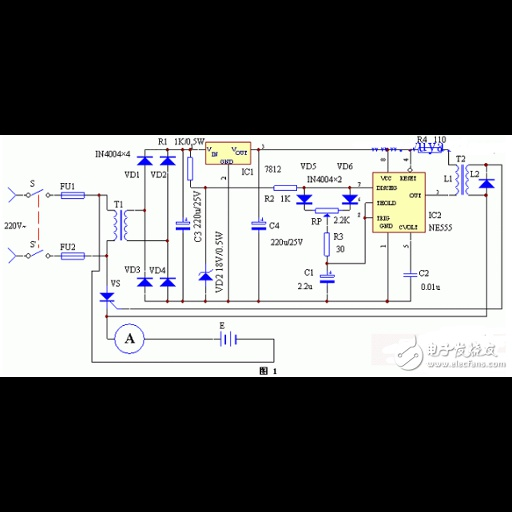battery: (216, 330, 242, 349)
capacitor: (401, 270, 419, 280)
firstdiode: (341, 193, 359, 208), (295, 193, 314, 207), (135, 154, 155, 167), (158, 276, 178, 289), (478, 178, 497, 191), (136, 276, 154, 289), (159, 155, 178, 167)
firstresistance: (270, 183, 299, 193), (322, 230, 332, 259), (186, 156, 195, 182)
fuse: (56, 250, 88, 262), (59, 190, 87, 202)
transformer: (109, 209, 132, 242), (453, 164, 471, 197)
